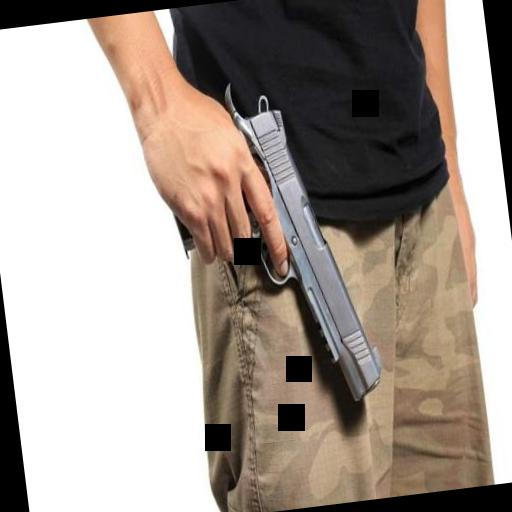Handgun: (156, 56, 382, 416)
